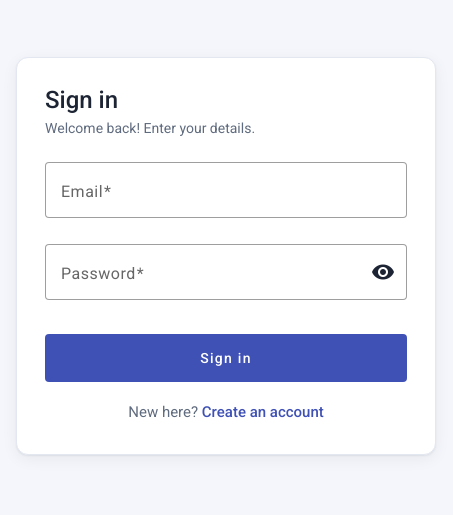
Test: LoginComponent › reports an unreachable server
Type "ada@example.com" into the field labelled "Email" at (226, 190), box [61,178,391,202]
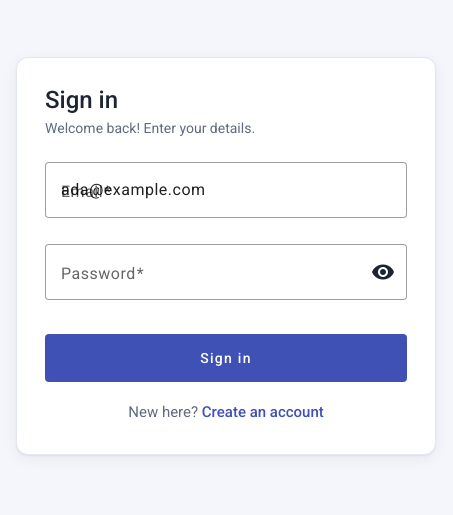
Type "secret1" into the password field labelled "Password" at (208, 272), box [61,260,355,284]
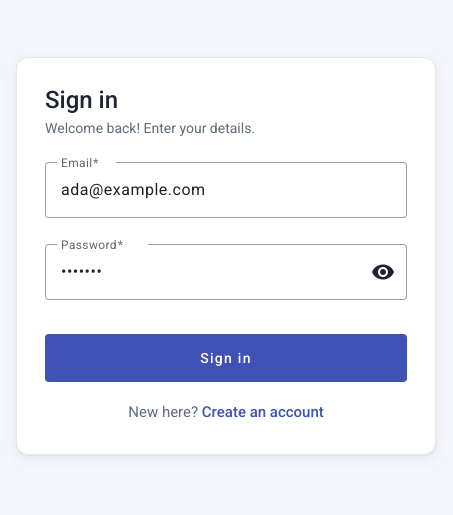
Click the submit button at (226, 358), box [45,334,407,382]
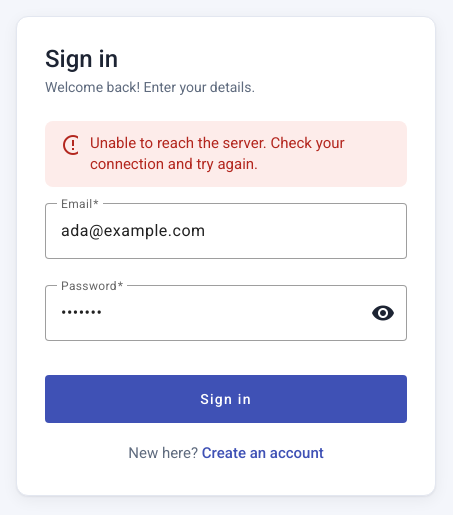
Now the text "Unable to reach the server" is shown, box [90,134,344,173]
